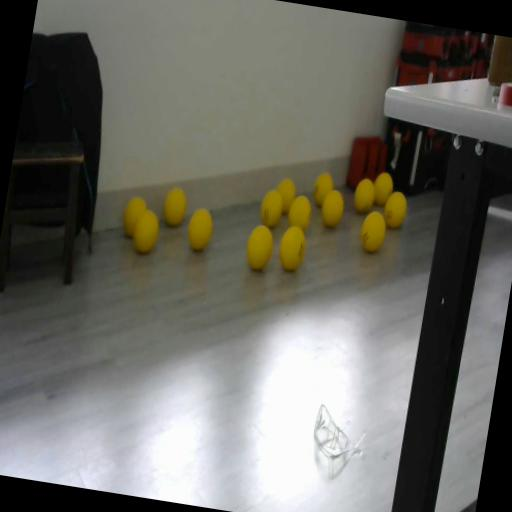FUEL: (242, 220, 277, 272), (275, 221, 309, 274), (184, 205, 216, 253), (357, 207, 388, 254), (160, 184, 190, 228), (380, 188, 410, 230), (120, 194, 148, 238), (318, 188, 346, 228), (285, 192, 313, 232), (350, 175, 378, 215), (272, 176, 298, 216), (370, 170, 394, 208)
